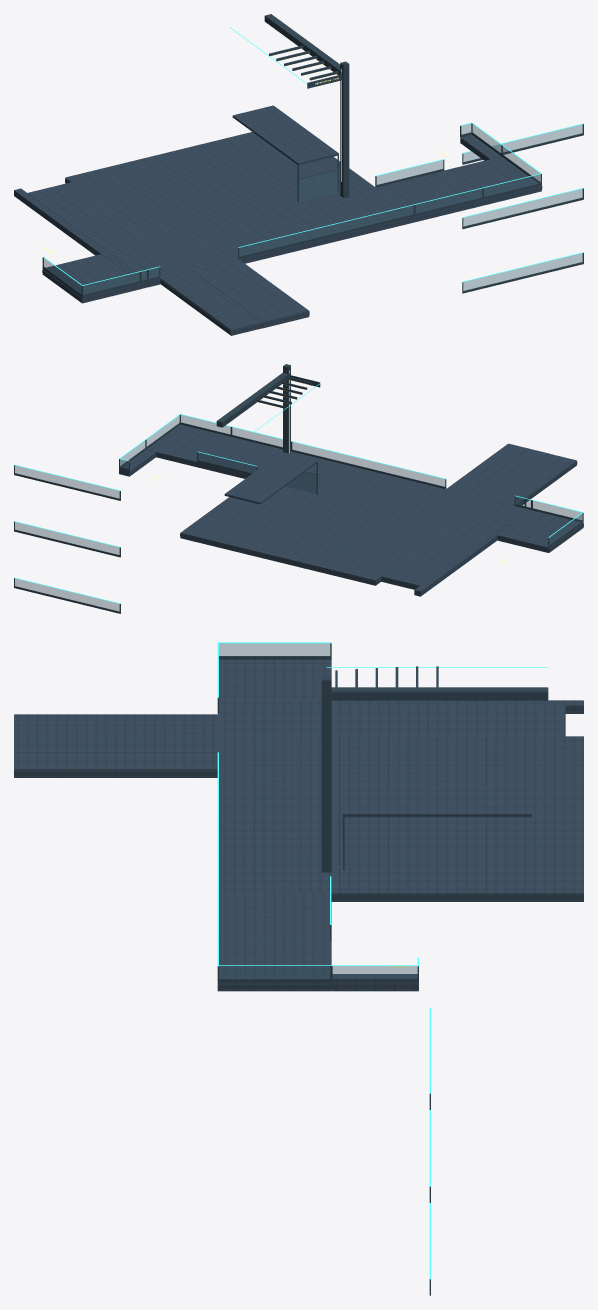
The model's file is v02-detailed-04-07-coffered.glb.
3 views of the same model, one above another, from view 1: azimuth 30°, elevation 25°; view 2: azimuth 150°, elevation 25°; view 3: azimuth 270°, elevation 25° (orthographic). The views are drawn at different scales.
Visible parts, largest first — view 1: v02-detailed-04-07-coffered; view 2: v02-detailed-04-07-coffered; view 3: v02-detailed-04-07-coffered.
Boxes of the visible parts, x1,y1,x2,y2 form: v02-detailed-04-07-coffered: [14, 14, 583, 335]; v02-detailed-04-07-coffered: [14, 364, 583, 613]; v02-detailed-04-07-coffered: [14, 642, 583, 1295].
Bounding box in the file's own units: 58.85 × 28.71 × 35.
5 materials, 1 textured.
